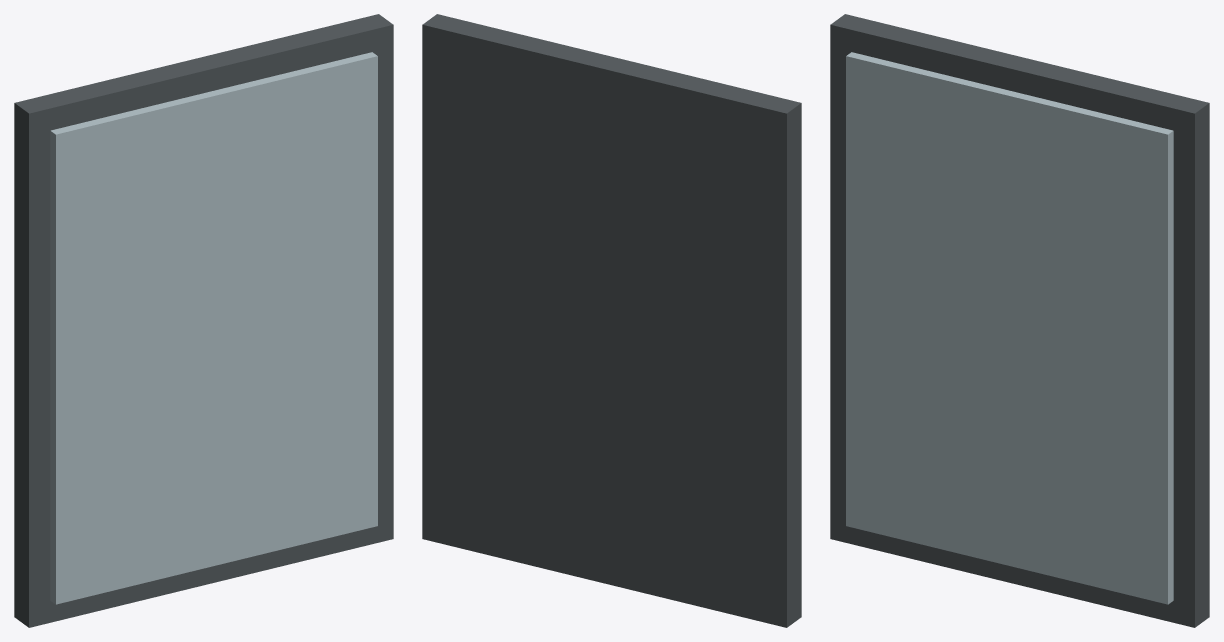
File: 16_wall_mirror.glb
3 views of the same model, side by side, from view 1: azimuth 30°, elevation 25°; view 2: azimuth 150°, elevation 25°; view 3: azimuth 330°, elevation 25° (orthographic).
Visible parts, largest first — view 1: mirror, frame; view 2: frame; view 3: mirror, frame.
Boxes of the visible parts, x1,y1,x2,y2 form: mirror: (50,52,377,604); frame: (14,14,393,627); frame: (422,14,801,627); mirror: (846,52,1173,604); frame: (830,14,1209,627).
Bounding box in the file's own units: 0.86 × 1.16 × 0.0825.
